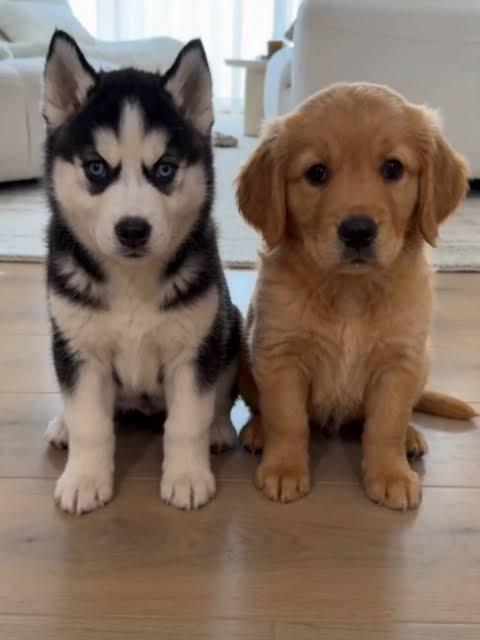puppy-dog: (232, 78, 480, 513), (39, 27, 243, 515)
